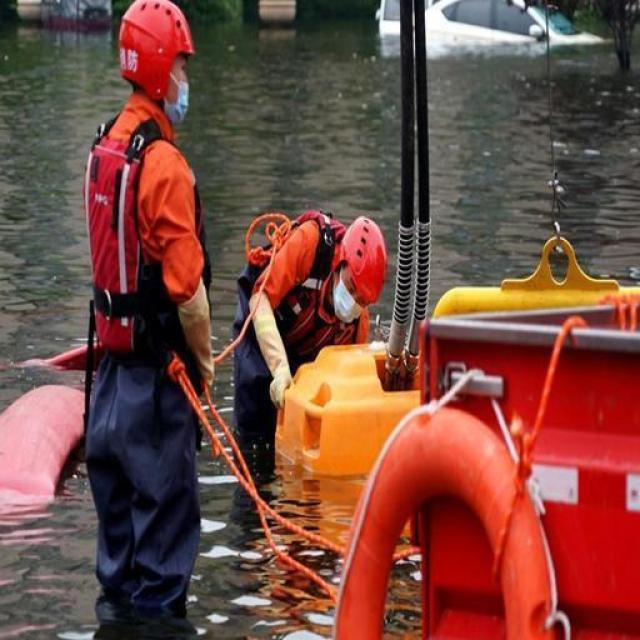rescuer: (72, 0, 218, 640), (216, 182, 402, 466)
